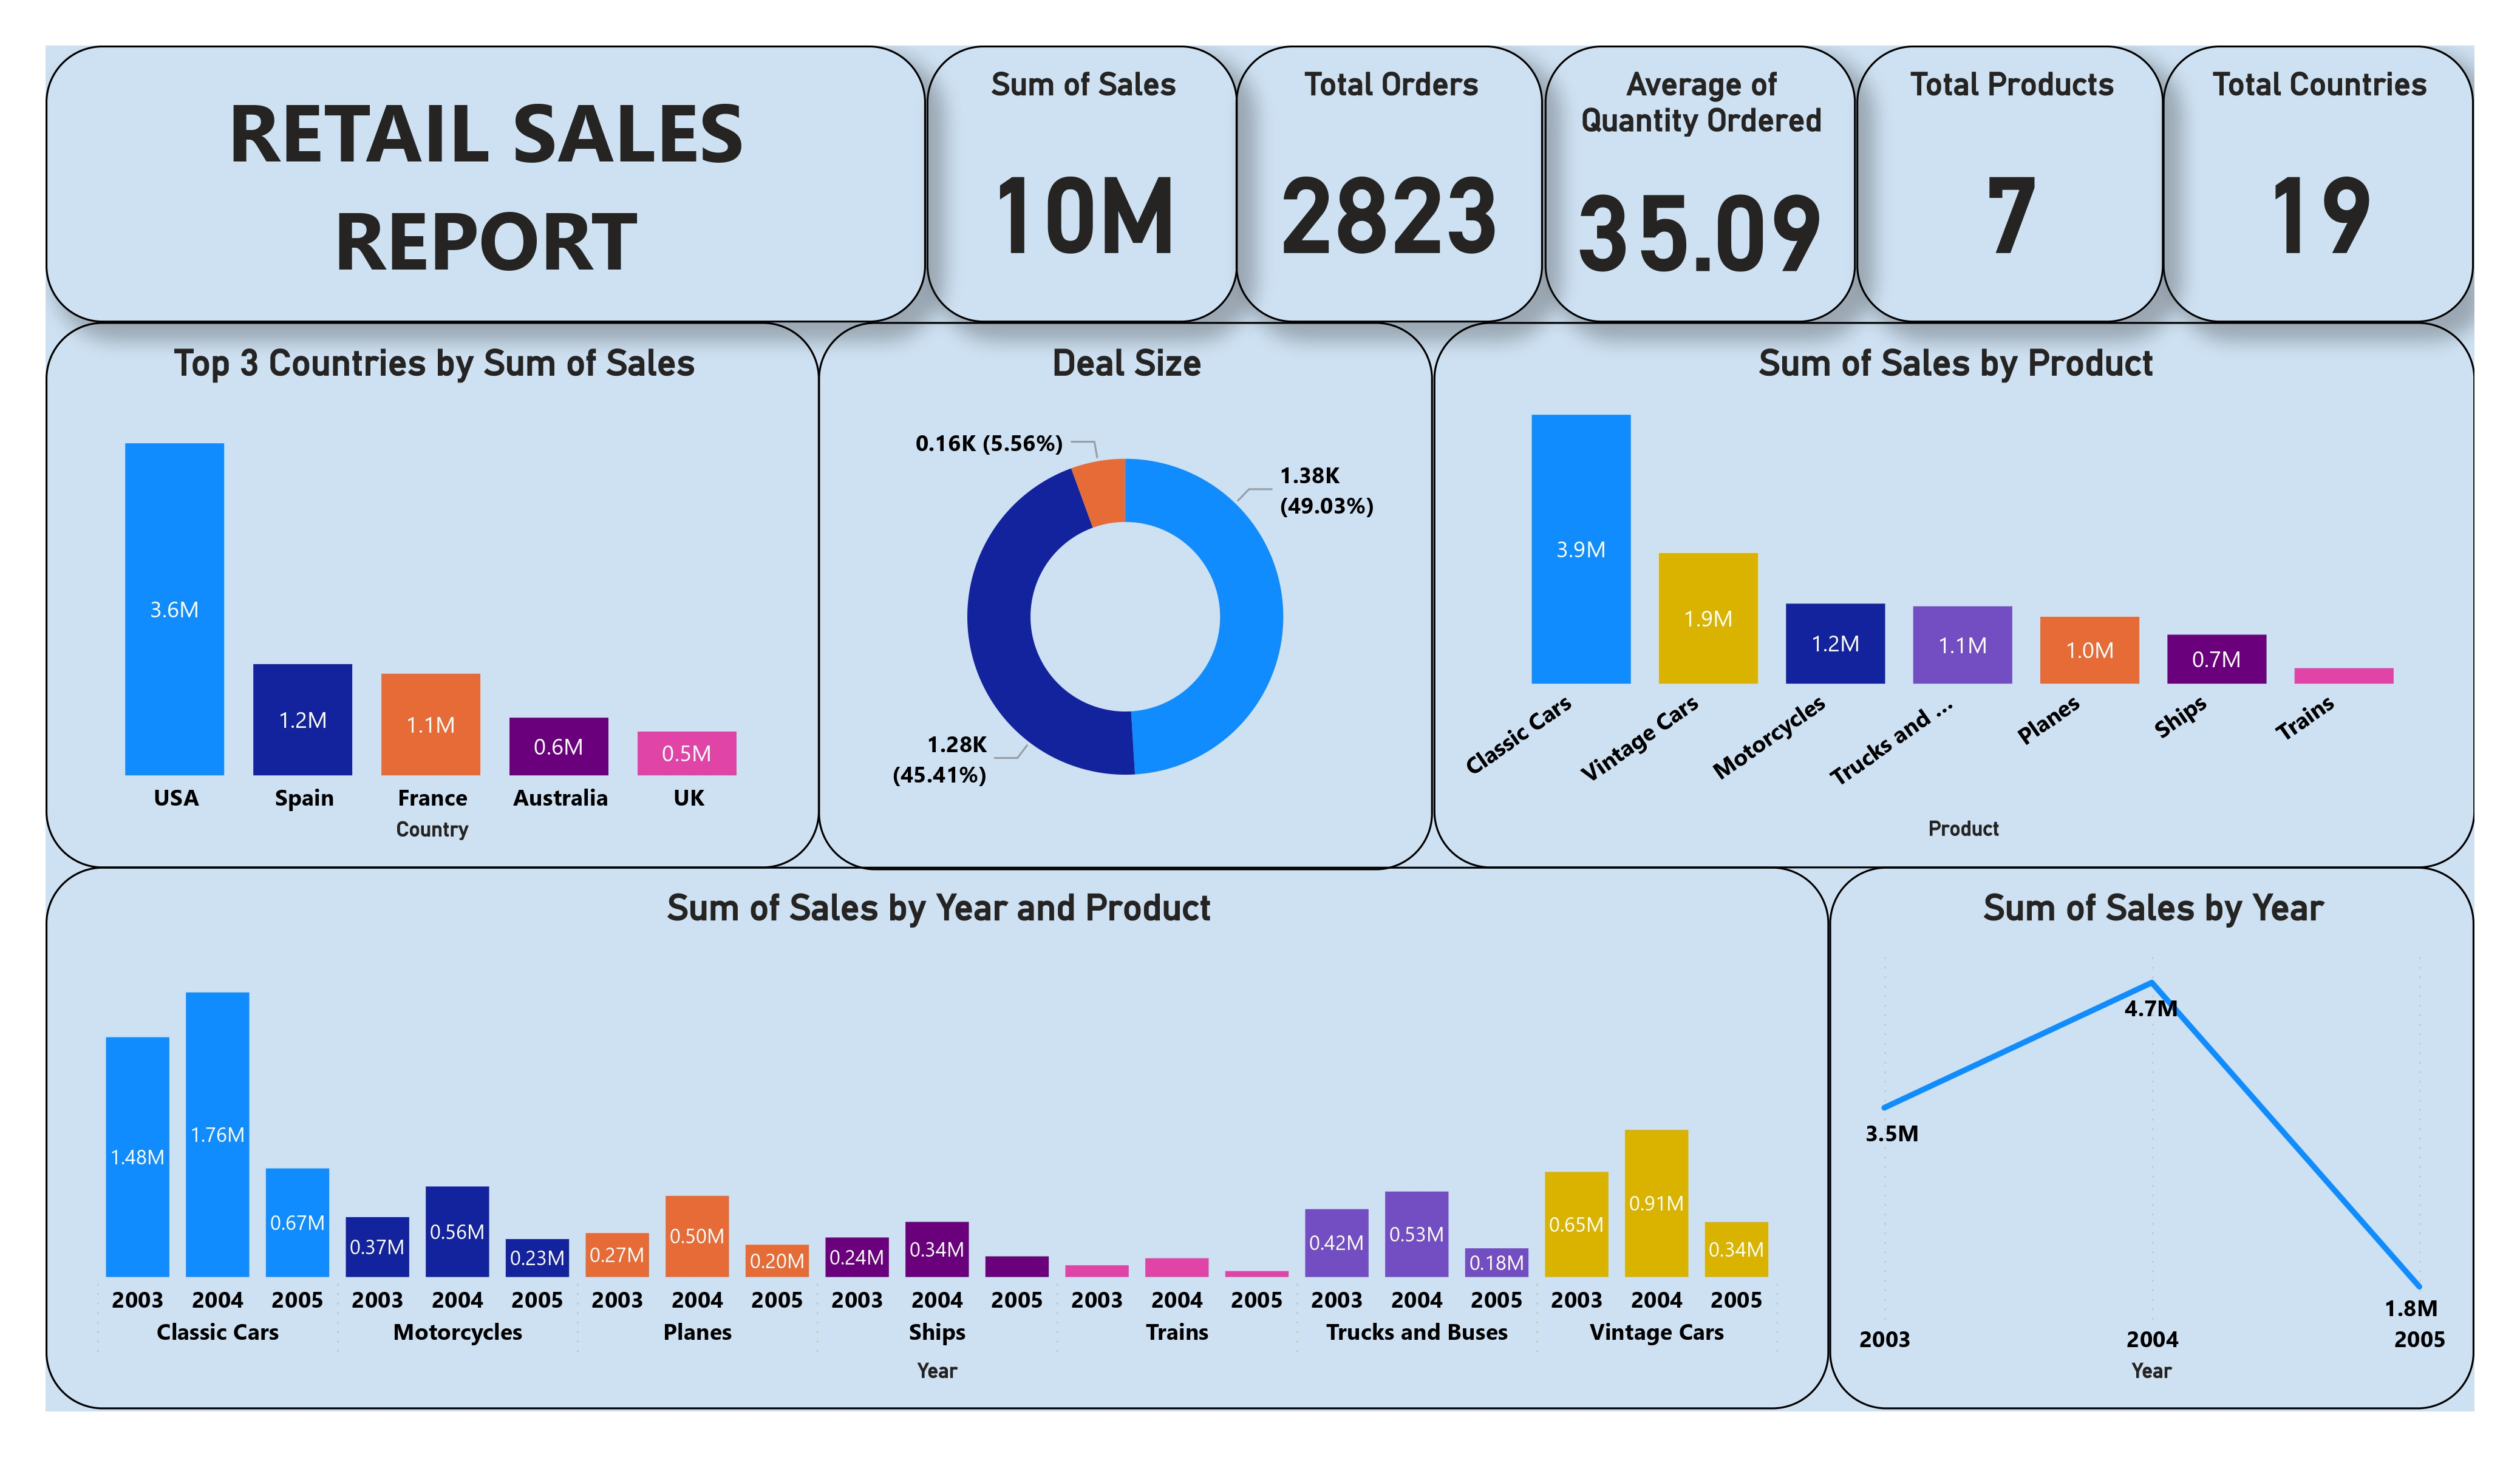

What the dashboard file says about the page in this screenshot:
{"tool":"powerbi","page":{"name":"Page 1","canvas":[1280,720],"ordinal":0},"visuals":[{"type":"card","title":"Average of Quantity Ordered","fields":{"Values":["Avg(sales_data_sample.QUANTITYORDERED)"]},"box":[790,0,163.8,145.9],"z":0},{"type":"card","title":"Total Countries","fields":{"Values":["Count(sales_data_sample.COUNTRY)"]},"box":[1116.2,0,163.8,145.9],"z":1000},{"type":"card","title":"Sum of Sales","fields":{"Values":["Sum(sales_data_sample.SALES)"]},"box":[463.8,0,163.8,145.9],"z":2000},{"type":"card","title":"Total Orders","fields":{"Values":["CountNonNull(sales_data_sample.ORDERNUMBER)"]},"box":[627.6,0,162.4,145.9],"z":3000},{"type":"card","title":"Total Products","fields":{"Values":["Count(sales_data_sample.PRODUCTLINE)"]},"box":[953.8,0,162.4,145.9],"z":4000},{"type":"lineChart","fields":{"Y":["Sum(sales_data_sample.SALES)"],"Category":["sales_data_sample.YEAR_ID"]},"box":[940,433.5,340,286.3],"z":5000},{"type":"textbox","box":[0,0,463.8,145.9],"z":6000},{"type":"columnChart","title":"Sum of Sales by Year and Product","fields":{"Y":["Sum(sales_data_sample.SALES)"],"Category":["sales_data_sample.PRODUCTLINE","sales_data_sample.YEAR_ID"],"Series":["sales_data_sample.PRODUCTLINE"]},"box":[0,433.5,940,286.3],"z":7000},{"type":"columnChart","title":"Sum of  Sales by Product","fields":{"Y":["Sum(sales_data_sample.SALES)"],"Category":["sales_data_sample.PRODUCTLINE"],"Series":["sales_data_sample.PRODUCTLINE"]},"box":[730.8,145.9,549.2,287.7],"z":8000},{"type":"columnChart","title":"Top 3 Countries by Sum of Sales","fields":{"Y":["Sum(sales_data_sample.SALES)"],"Category":["sales_data_sample.COUNTRY"],"Series":["sales_data_sample.COUNTRY"]},"box":[0,145.3,408,288],"z":9000},{"type":"donutChart","title":"Deal Size","fields":{"Category":["sales_data_sample.DEALSIZE"],"Y":["CountNonNull(sales_data_sample.DEALSIZE)"]},"box":[407.5,145,323.8,288.8],"z":10000}]}

Visuals, with their boxes in screenshot pixels (x1, y1, x2, y2):
"Average of Quantity Ordered" card: locate(1545, 46, 1856, 322)
"Total Countries" card: locate(2164, 46, 2474, 322)
"Sum of Sales" card: locate(925, 46, 1236, 322)
"Total Orders" card: locate(1236, 46, 1545, 322)
"Total Products" card: locate(1856, 46, 2164, 322)
lineChart - Sum(sales_data_sample.SALES) x sales_data_sample.YEAR_ID: locate(1829, 868, 2474, 1411)
textbox: locate(46, 46, 925, 322)
"Sum of Sales by Year and Product" columnChart: locate(46, 868, 1829, 1411)
"Sum of  Sales by Product" columnChart: locate(1432, 322, 2474, 868)
"Top 3 Countries by Sum of Sales" columnChart: locate(46, 321, 820, 868)
"Deal Size" donutChart: locate(819, 321, 1433, 869)
